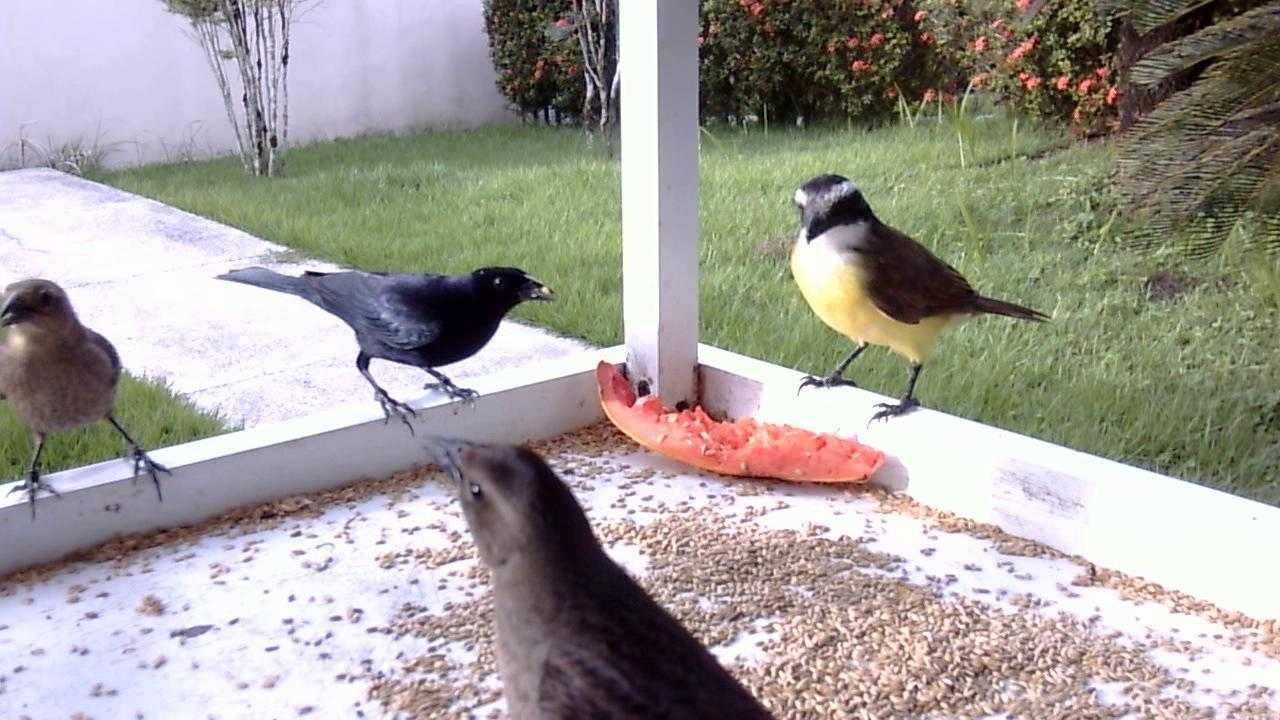bem_te_vi: (781, 168, 1052, 432)
chupim: (415, 432, 788, 718), (204, 248, 560, 447), (1, 271, 184, 531)
